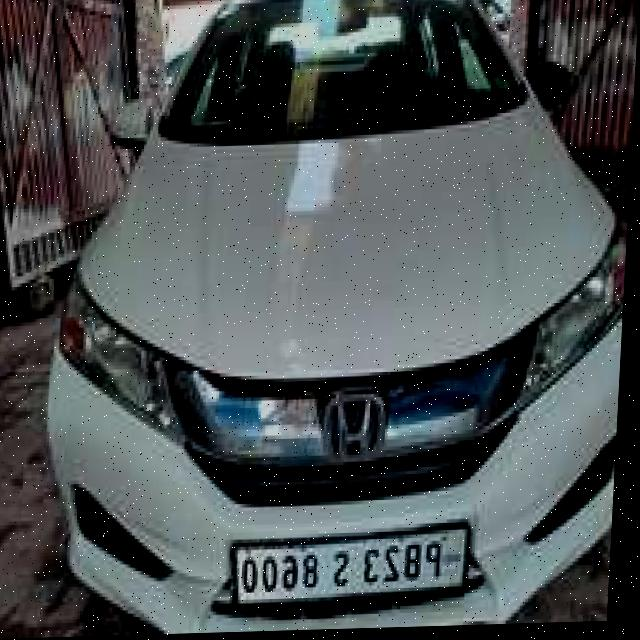plate: (231, 520, 481, 616)
